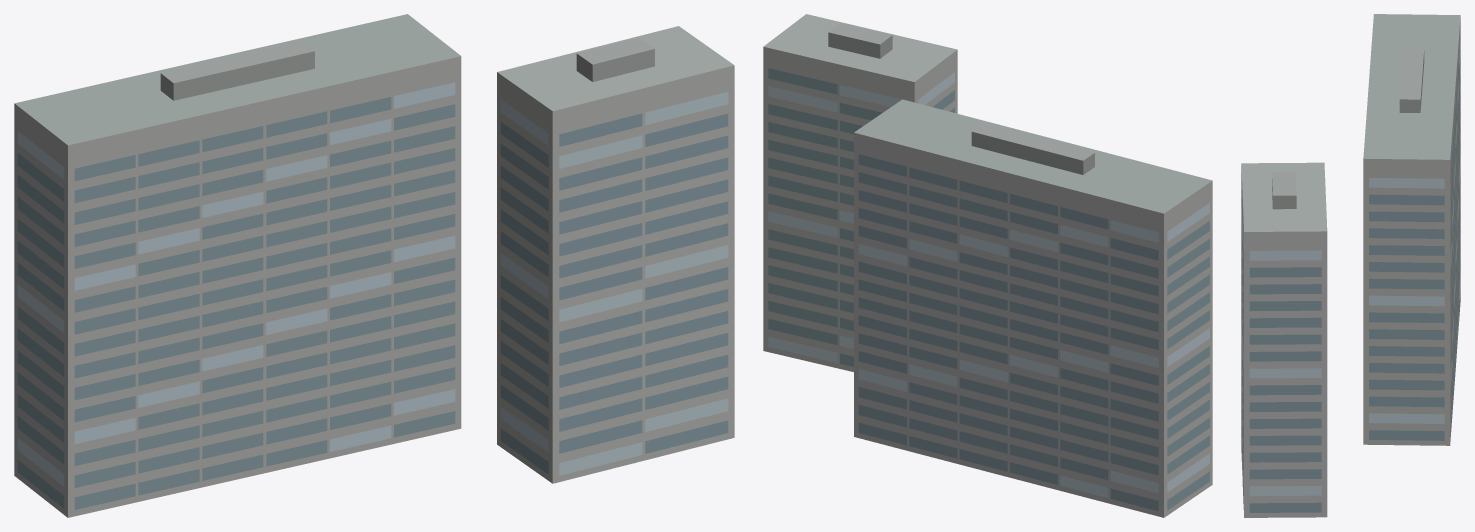
The model's file is apt-a15606005.glb.
The picture shows the model from 3 angles, left to right: view 1: azimuth 30°, elevation 25°; view 2: azimuth 150°, elevation 25°; view 3: azimuth 270°, elevation 25°; orthographic projection. The views are drawn at different scales.
Visible parts, largest first — view 1: apt-a15606005; view 2: apt-a15606005; view 3: apt-a15606005.
Part boxes in pixels (x1,y1,x2,y2): apt-a15606005: [14, 14, 734, 517]; apt-a15606005: [763, 14, 1212, 517]; apt-a15606005: [1241, 14, 1460, 517].
Bounding box in the file's own units: 76.56 × 49 × 32.56.
